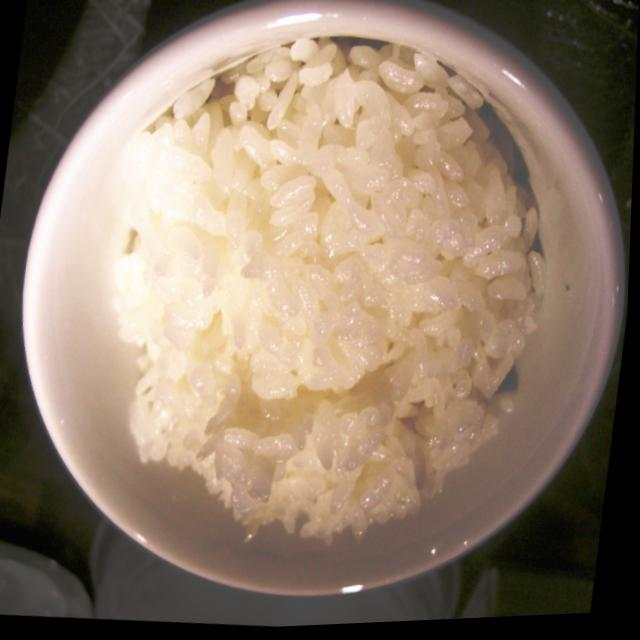rice: (72, 5, 576, 566)
